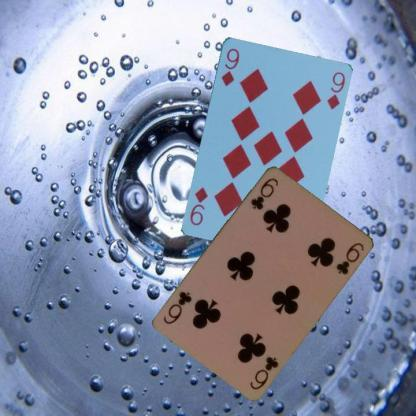6c: (247, 352, 280, 392), (248, 174, 280, 211)
9d: (218, 45, 240, 87)
